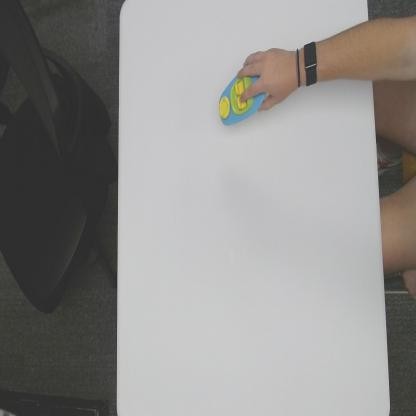Arm: (320, 19, 371, 84)
Boat: (218, 71, 266, 128)
Hand: (236, 46, 298, 114)
